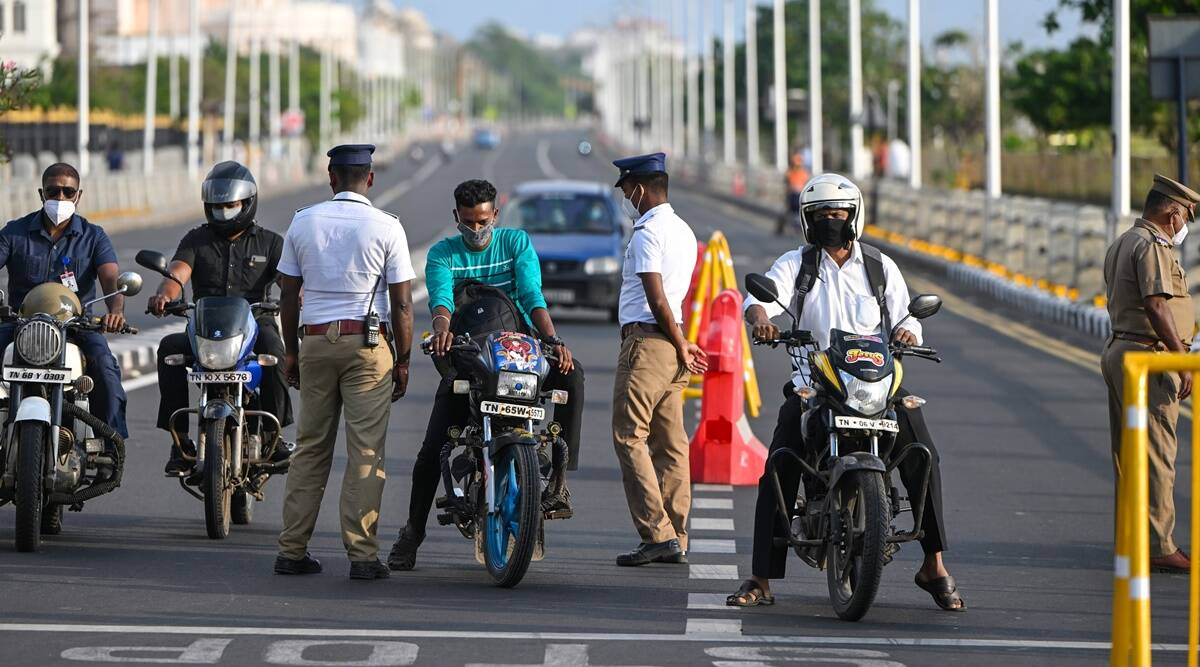motor: (749, 315, 969, 617), (422, 330, 580, 589), (144, 293, 308, 539), (1, 284, 138, 548)
no helmet: (451, 176, 501, 248), (34, 160, 84, 227)
number: (477, 396, 546, 421), (1, 363, 74, 384), (830, 412, 901, 433), (182, 366, 256, 382)
with helmet: (798, 169, 867, 248), (201, 155, 259, 237)
